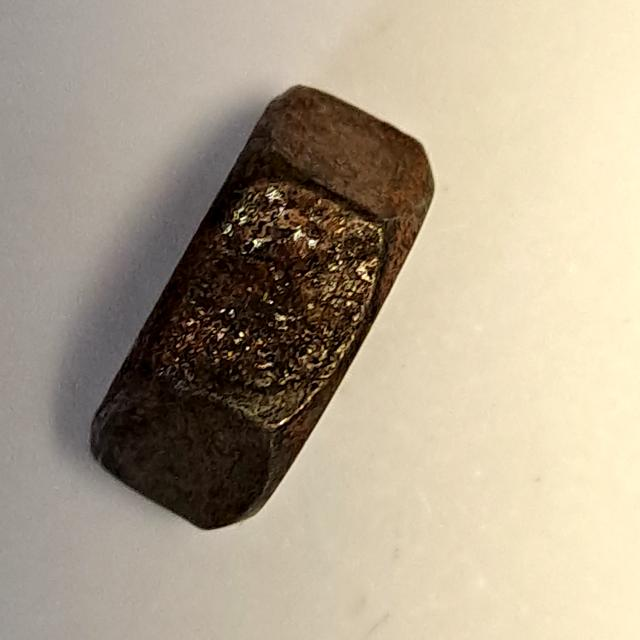Side_Rust: (81, 77, 446, 534)
